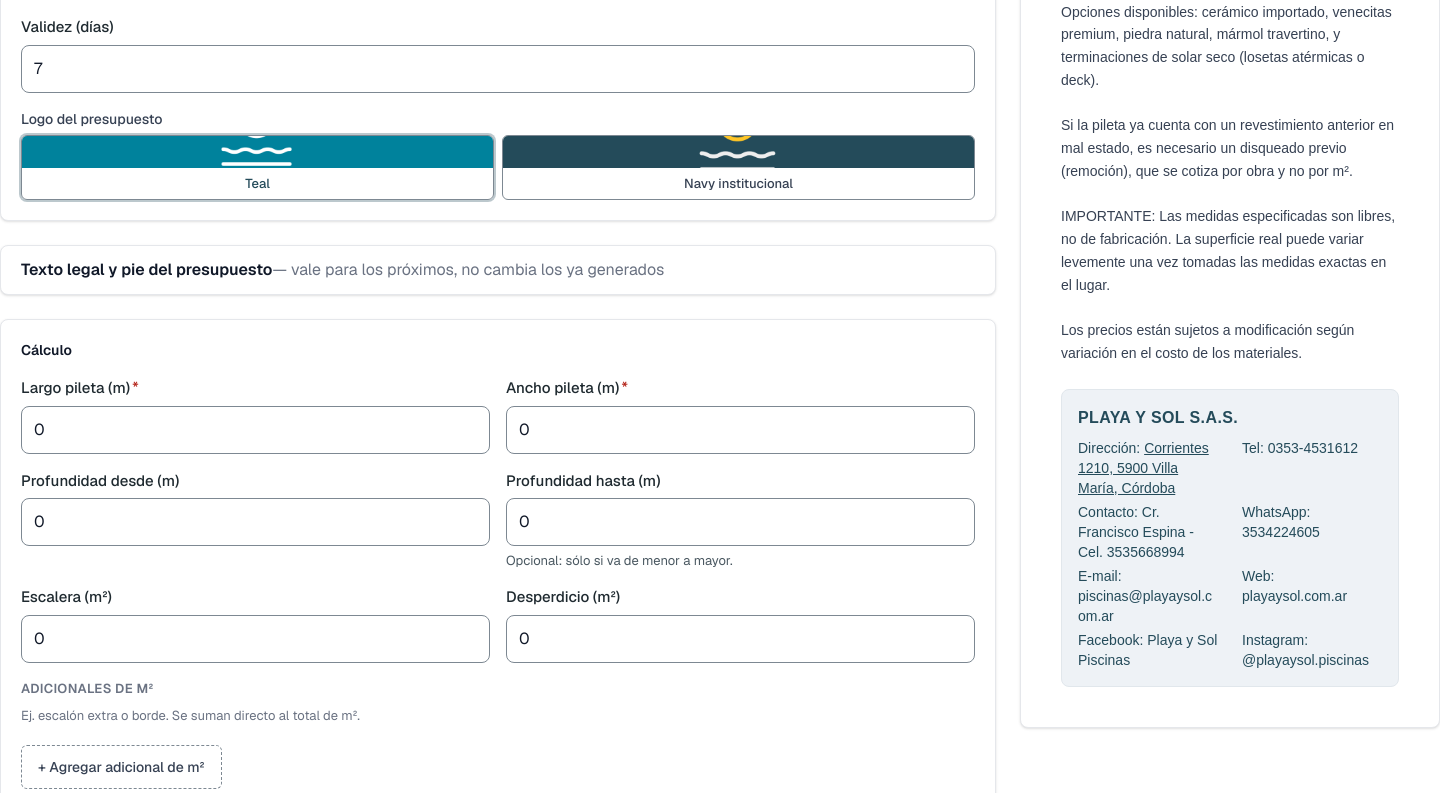
it: RevestimientoCalculadora · paridad con el oráculo › con escalera y desperdicio: se suman directo al total de m² (68 + 3 + 2 = 73)
(page scrolled)
Type "8" into the field labelled "Largo pileta (m)" at (256, 430), box [21,406,490,454]
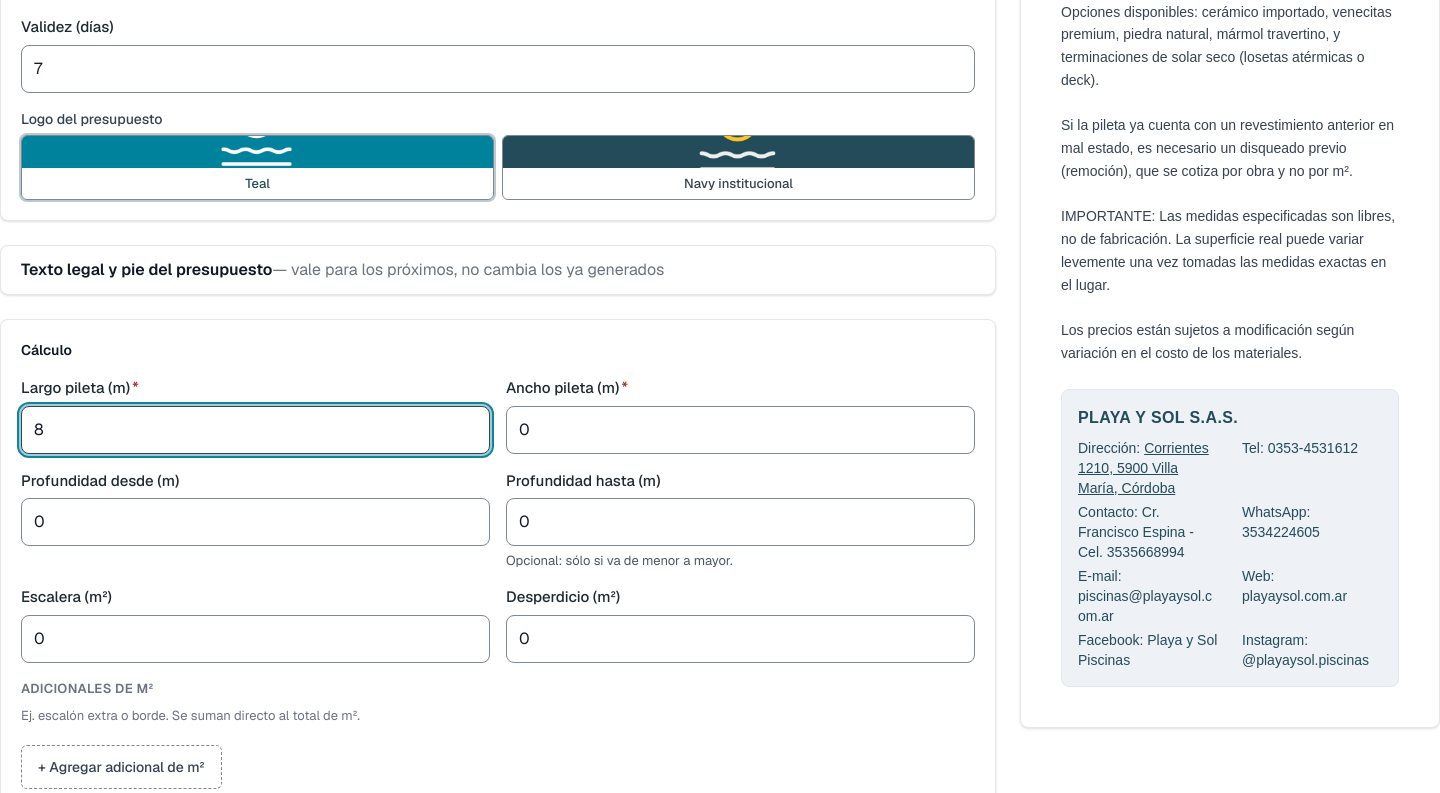
Type "4" into the field labelled "Ancho pileta (m)" at (740, 430), box [506,406,975,454]
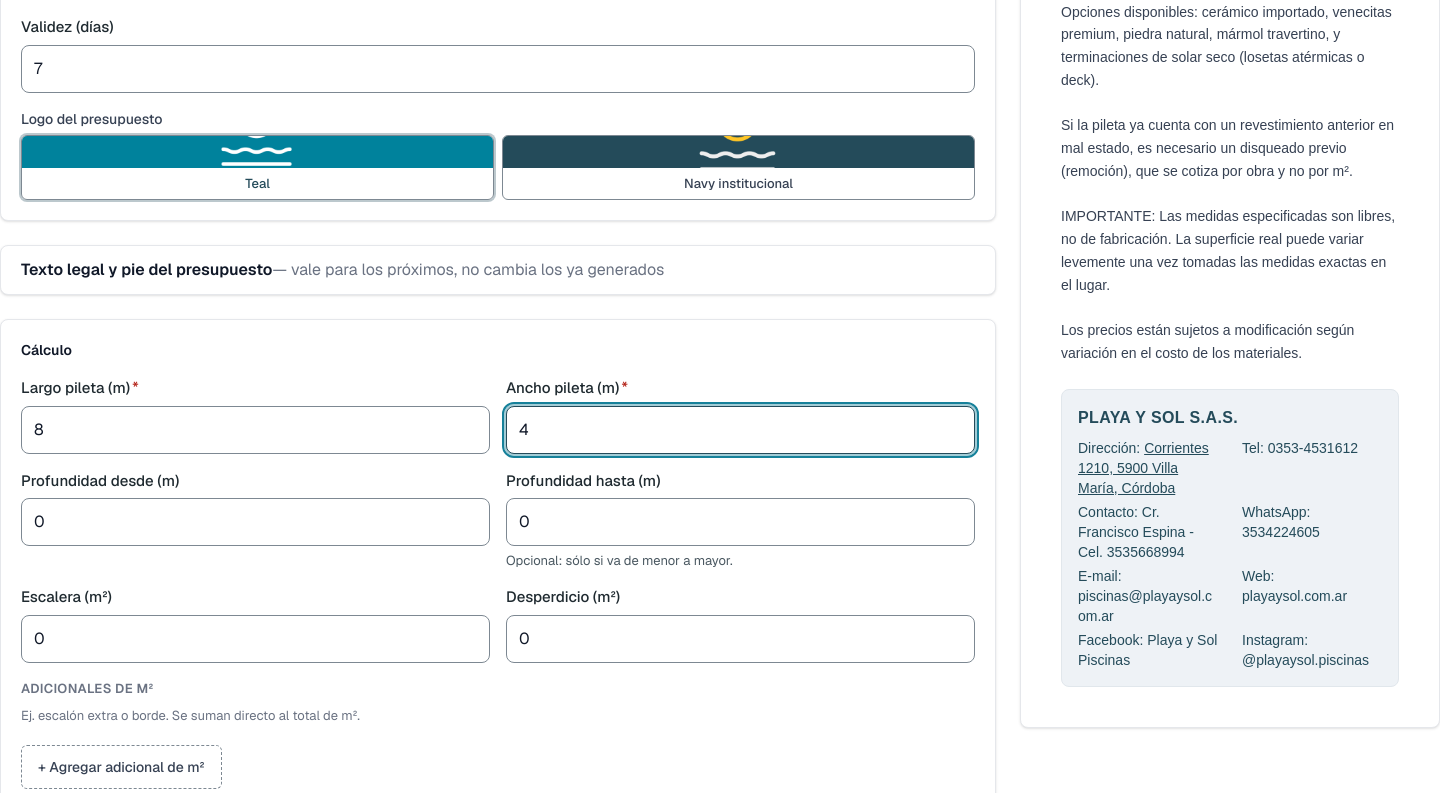
Type "1.5" into the field labelled "Profundidad desde (m)" at (256, 522), box [21,498,490,546]
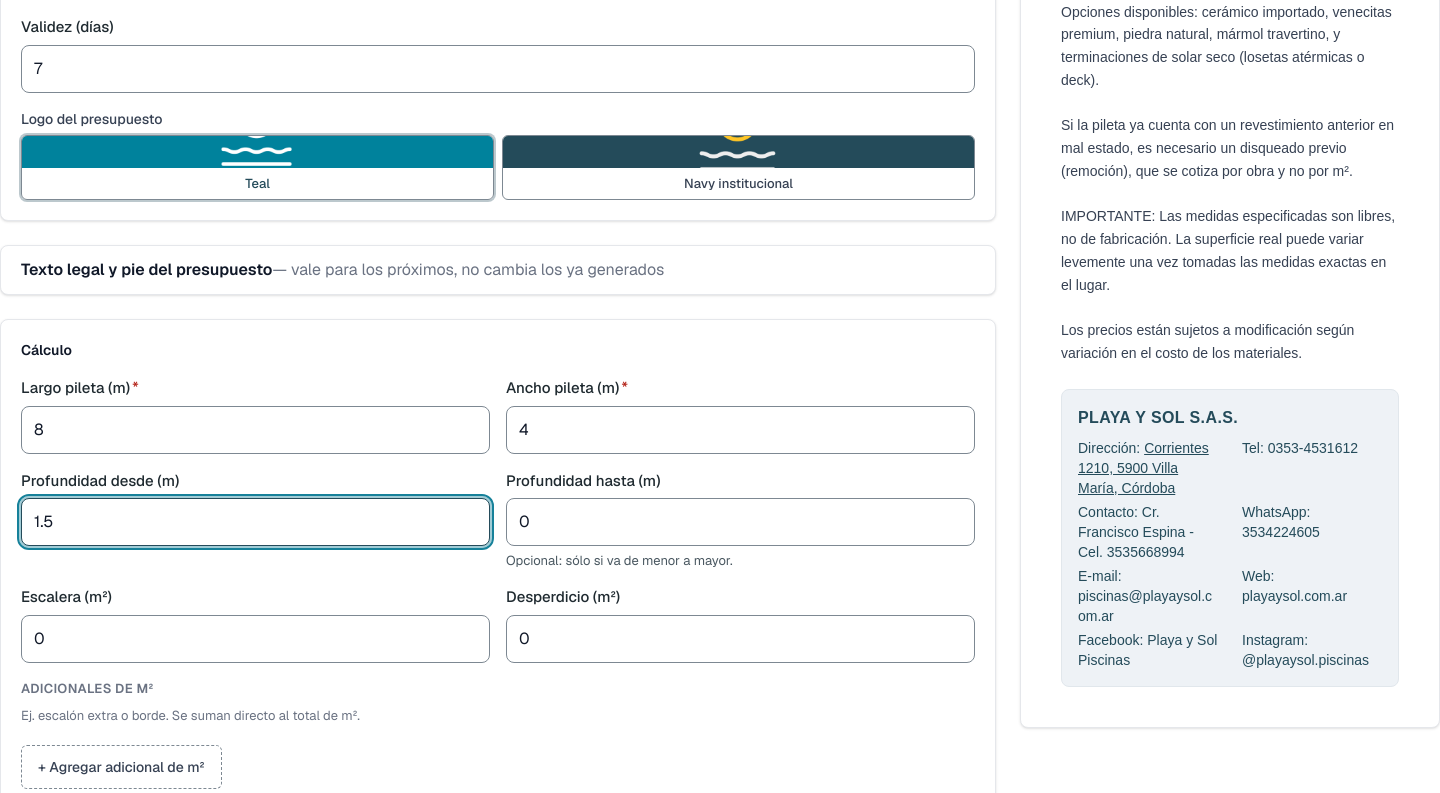
Type "3" into the field labelled "Escalera (m²)" at (256, 639), box [21,615,490,663]
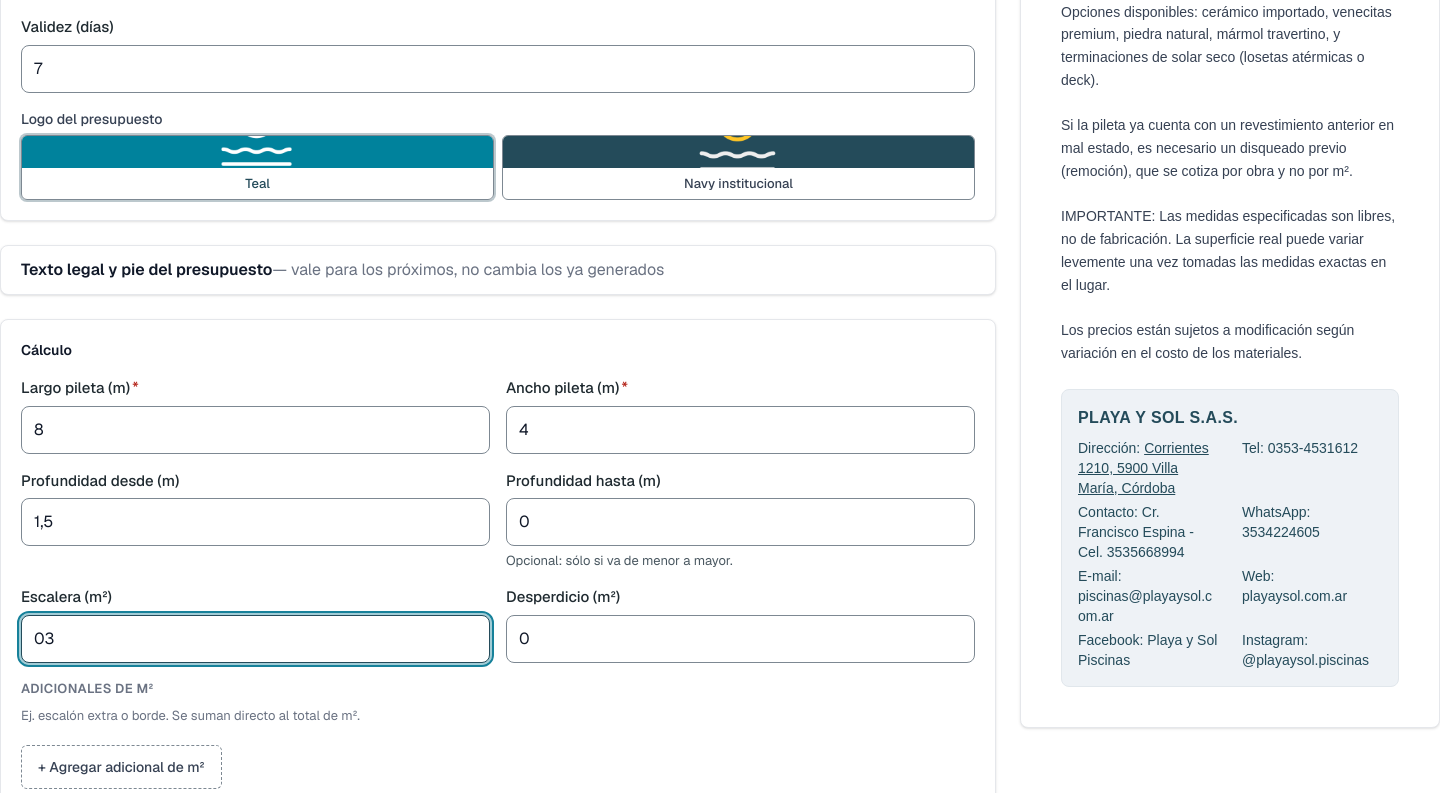
Type "2" into the field labelled "Desperdicio (m²)" at (740, 639), box [506,615,975,663]
(page scrolled)
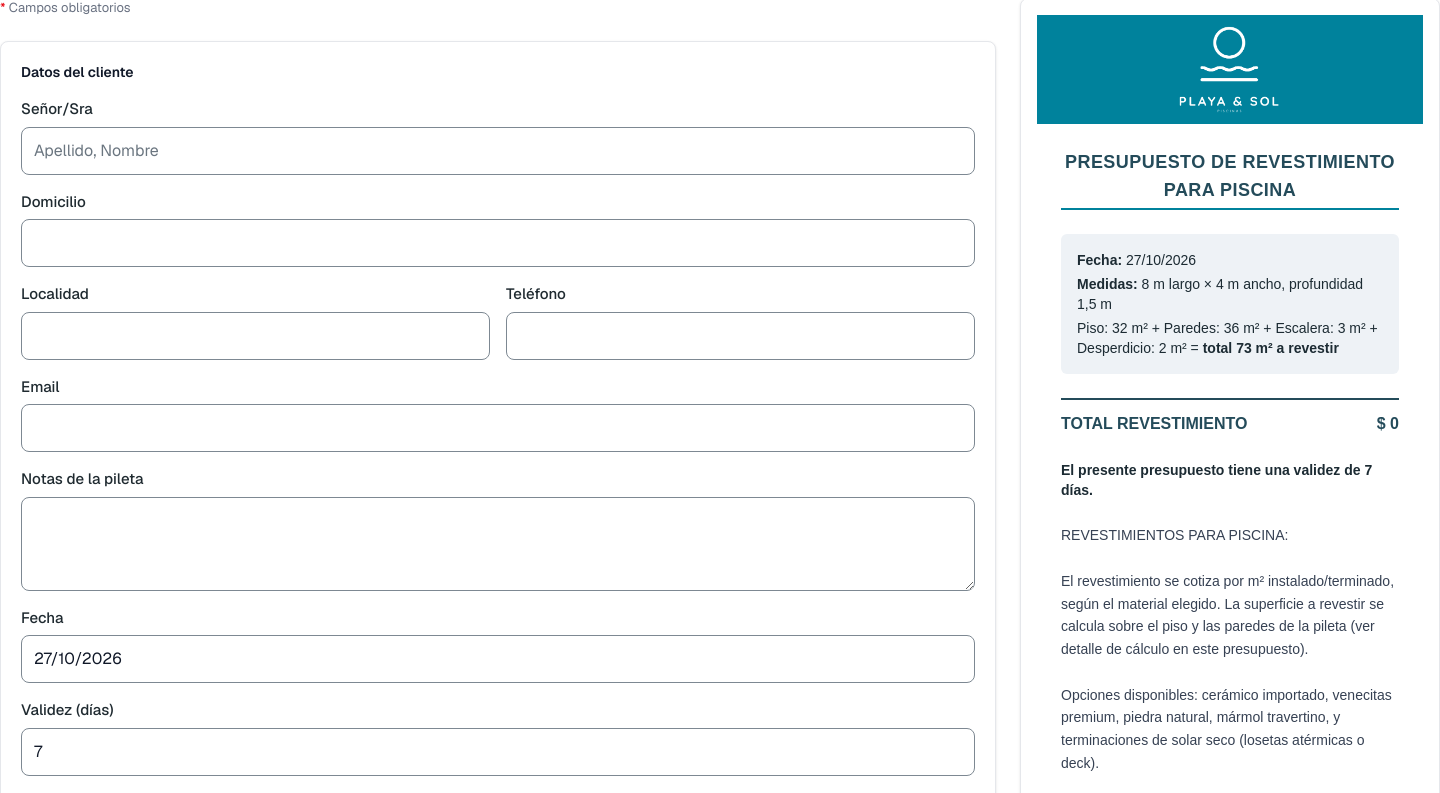
Expected: the text "total 73 m² a revestir" is shown, [1203,340,1339,356]
